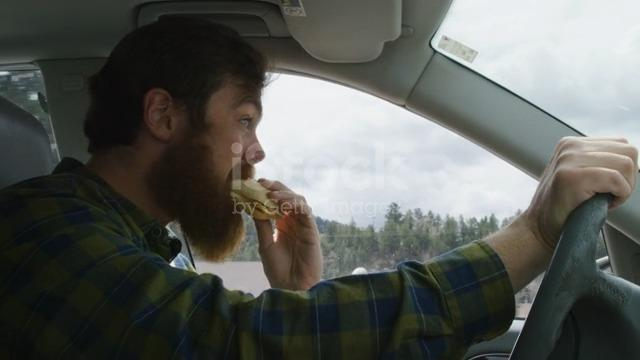Eating: (180, 134, 352, 277)
